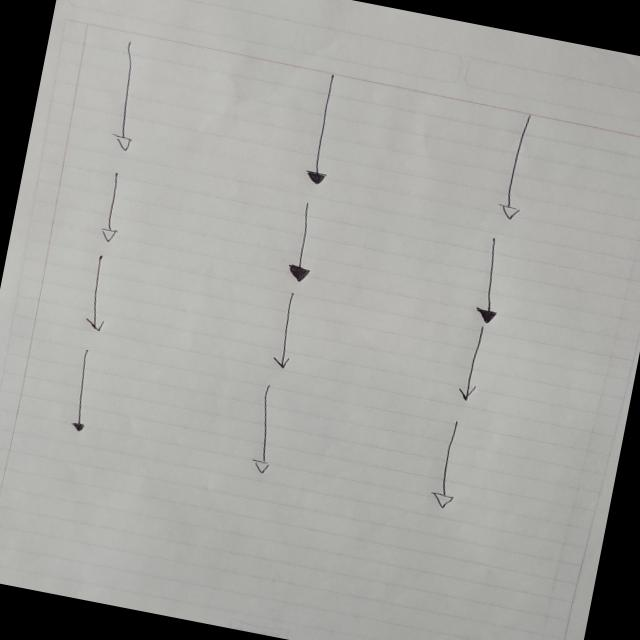arrow_line_down: (99, 38, 153, 157), (300, 70, 350, 188), (495, 109, 542, 224), (241, 380, 287, 478), (424, 416, 470, 512), (468, 234, 514, 327), (280, 199, 326, 288), (60, 343, 104, 435), (74, 250, 120, 334), (266, 288, 306, 373), (454, 322, 493, 406), (93, 168, 131, 246)
